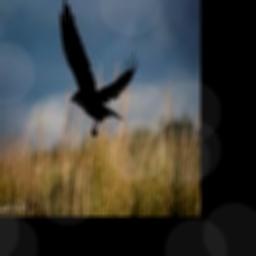Crow: (59, 0, 138, 138)
